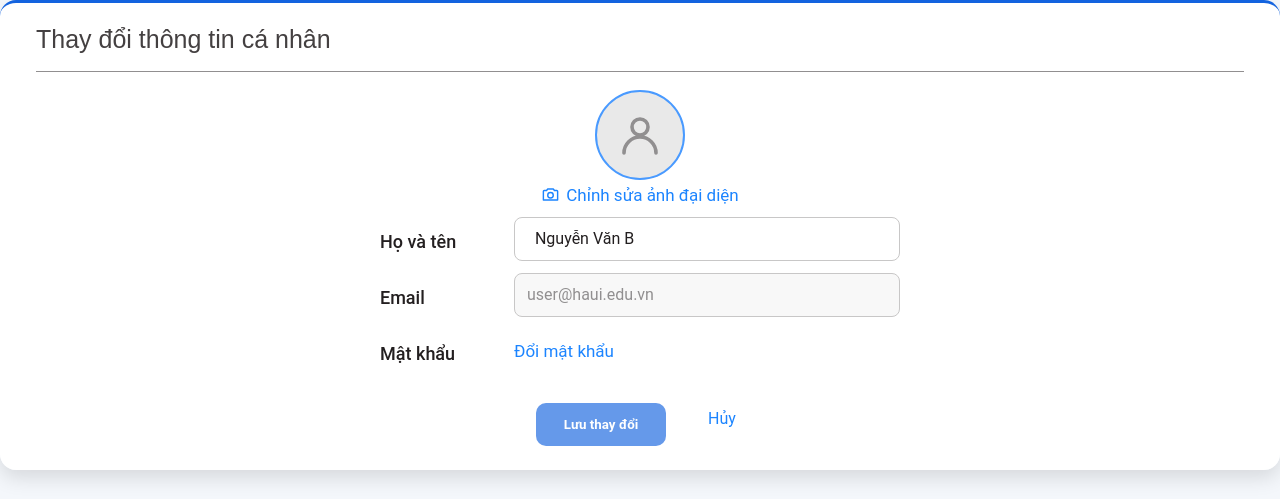
ProfileForm › updates the full name and shared profile
Replace the text in the field labelled "Họ và tên" with "  Nguyễn Văn B  " at (707, 238), box 514,216 -> 900,260
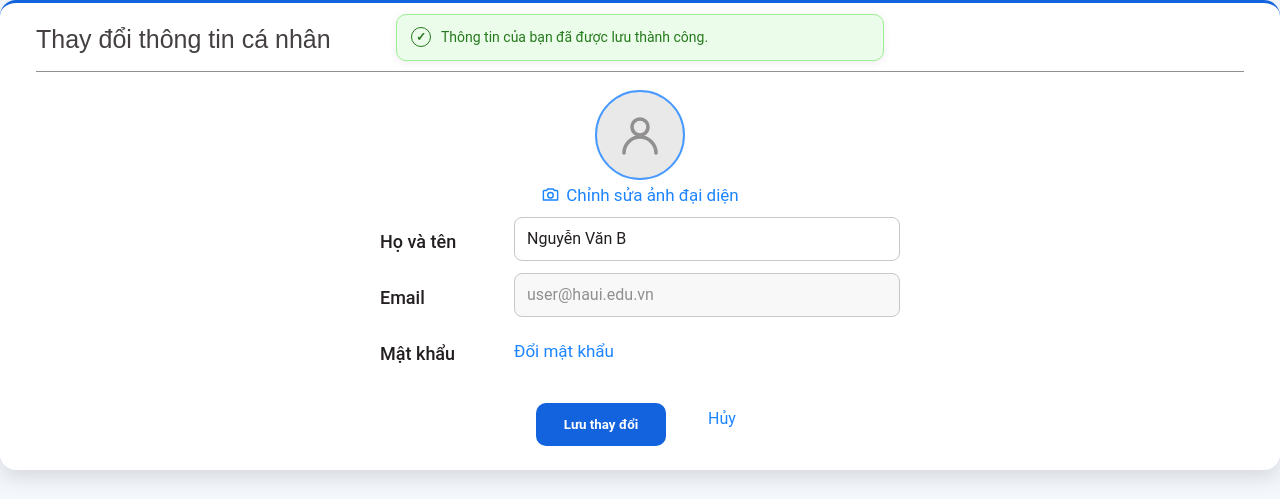
Expected: the text "được lưu thành công" is shown, 441,29 -> 708,45
